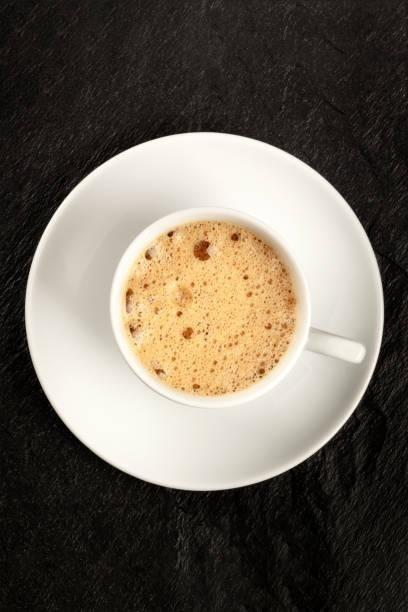cup-handle: (105, 205, 366, 412)
